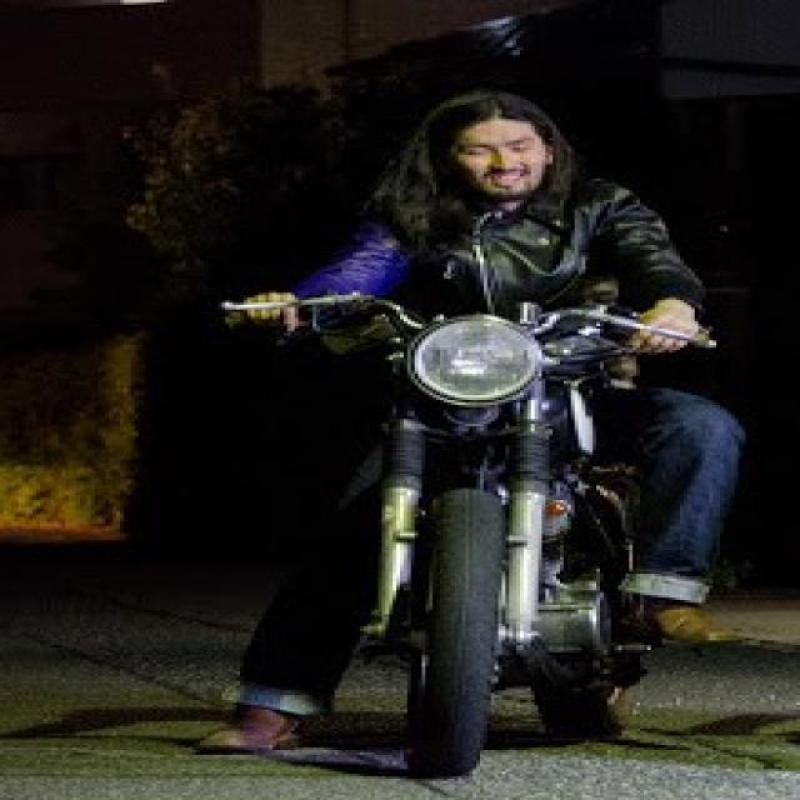nohelmet: (404, 93, 610, 207)
